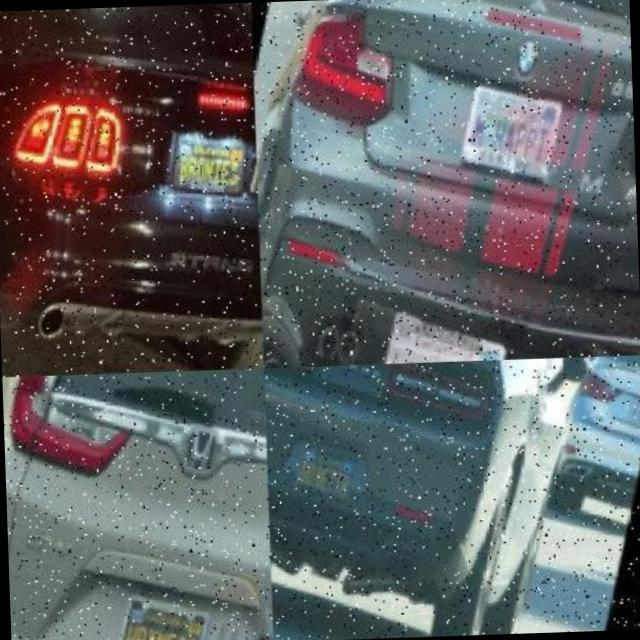LicensePlate: (462, 64, 569, 174), (116, 582, 217, 640), (296, 429, 364, 500), (175, 119, 252, 181)
